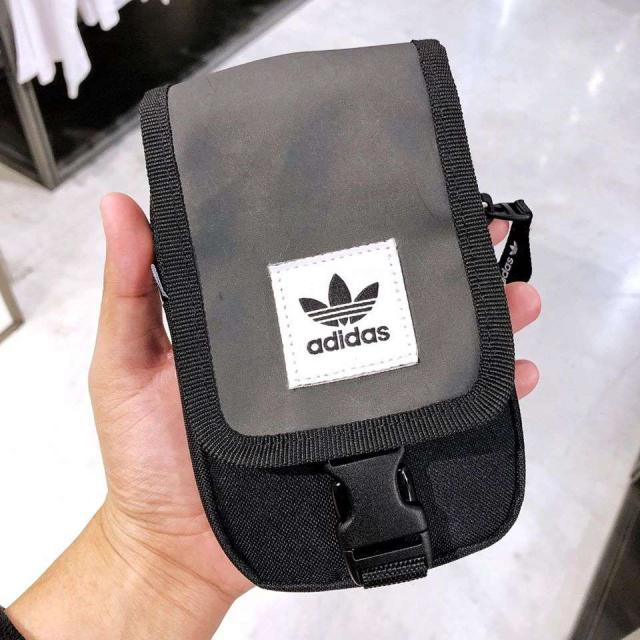Handbag: (145, 47, 525, 590)
